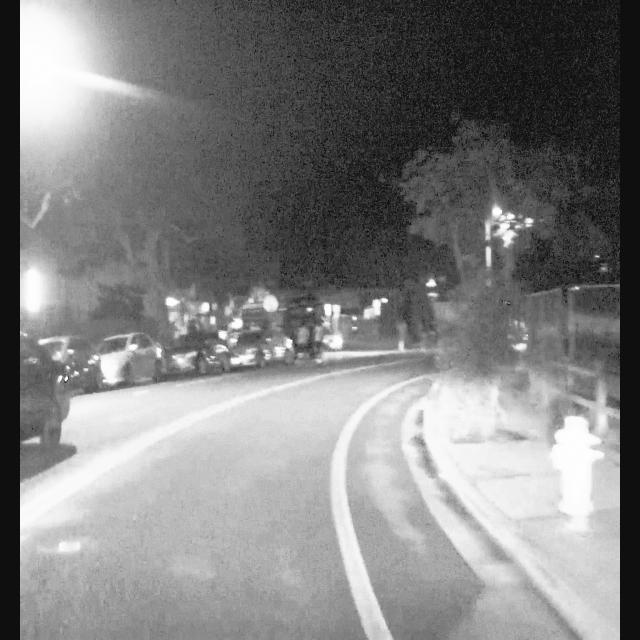Tree: (435, 103, 527, 457)
